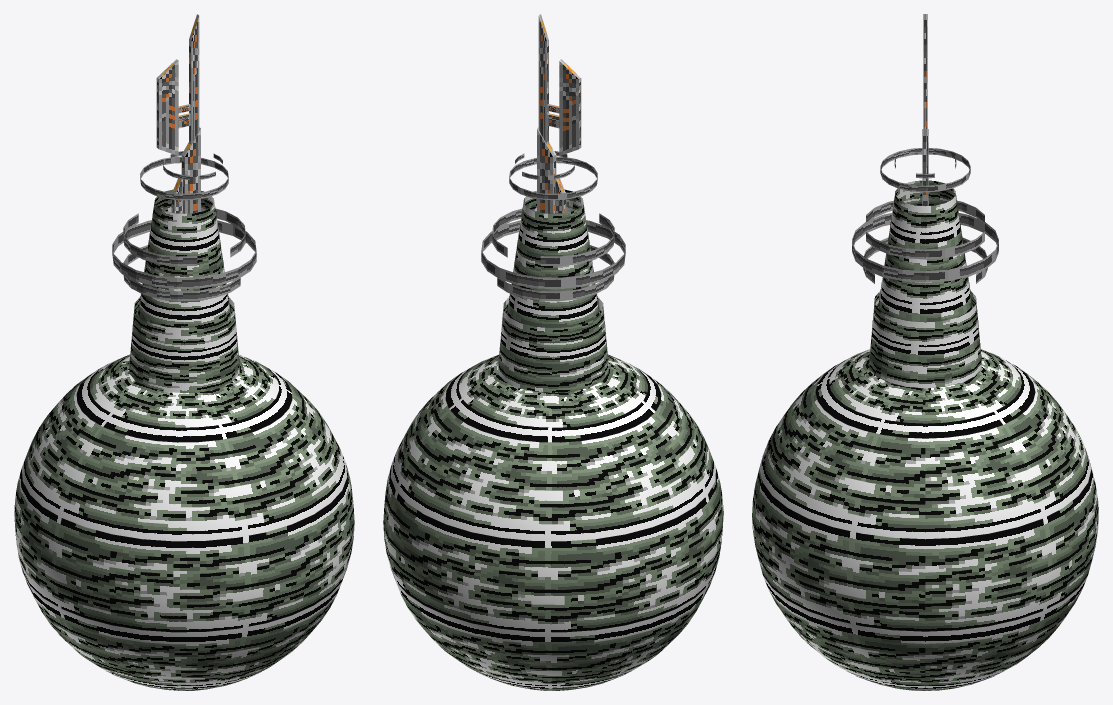
The model's file is SpirePLanet.fbx.
3 renders of one model, left to right at view 1: azimuth 30°, elevation 25°; view 2: azimuth 150°, elevation 25°; view 3: azimuth 270°, elevation 25°, orthographic.
Parts seen in each view (by area): view 1: planet_atmo, Spire_Atmo_2, Spire_Atmo_1, Spire_Ring_2, Spire_6, Spire_Ring_3, Spire_Ring_4, Spire_5, spire_3, Spire_Ring_1; view 2: planet_atmo, Spire_Atmo_2, Spire_Atmo_1, Spire_Ring_2, Spire_6, Spire_Ring_3, Spire_Ring_4, Spire_5, spire_3, Spire_Ring_1; view 3: planet_atmo, Spire_Atmo_2, Spire_Atmo_1, Spire_Ring_2, Spire_Ring_3, Spire_Ring_1, Spire_5.
Part boxes in pixels (left/top/right/bottom): planet_atmo: left=14, top=354, right=354, bottom=690; Spire_Atmo_2: left=138, top=189, right=230, bottom=327; Spire_Atmo_1: left=129, top=297, right=239, bottom=393; Spire_Ring_2: left=112, top=220, right=256, bottom=289; Spire_6: left=156, top=59, right=178, bottom=155; Spire_Ring_3: left=123, top=208, right=245, bottom=266; Spire_Ring_4: left=123, top=245, right=240, bottom=301; Spire_5: left=189, top=14, right=199, bottom=144; spire_3: left=181, top=127, right=200, bottom=213; Spire_Ring_1: left=140, top=156, right=228, bottom=200; planet_atmo: left=383, top=354, right=723, bottom=690; Spire_Atmo_2: left=507, top=189, right=599, bottom=327; Spire_Atmo_1: left=498, top=297, right=608, bottom=393; Spire_Ring_2: left=481, top=220, right=625, bottom=289; Spire_6: left=559, top=59, right=581, bottom=155; Spire_Ring_3: left=492, top=208, right=614, bottom=266; Spire_Ring_4: left=497, top=245, right=614, bottom=301; Spire_5: left=538, top=14, right=548, bottom=144; spire_3: left=537, top=127, right=556, bottom=213; Spire_Ring_1: left=509, top=156, right=597, bottom=200; planet_atmo: left=752, top=349, right=1098, bottom=690; Spire_Atmo_2: left=878, top=180, right=972, bottom=322; Spire_Atmo_1: left=869, top=290, right=981, bottom=388; Spire_Ring_2: left=852, top=213, right=998, bottom=282; Spire_Ring_3: left=866, top=200, right=984, bottom=259; Spire_Ring_1: left=880, top=148, right=970, bottom=192; Spire_5: left=923, top=14, right=927, bottom=128.
Bounding box in the file's own units: 2.12 × 4.49 × 2.12.
3 materials, 3 textured.
